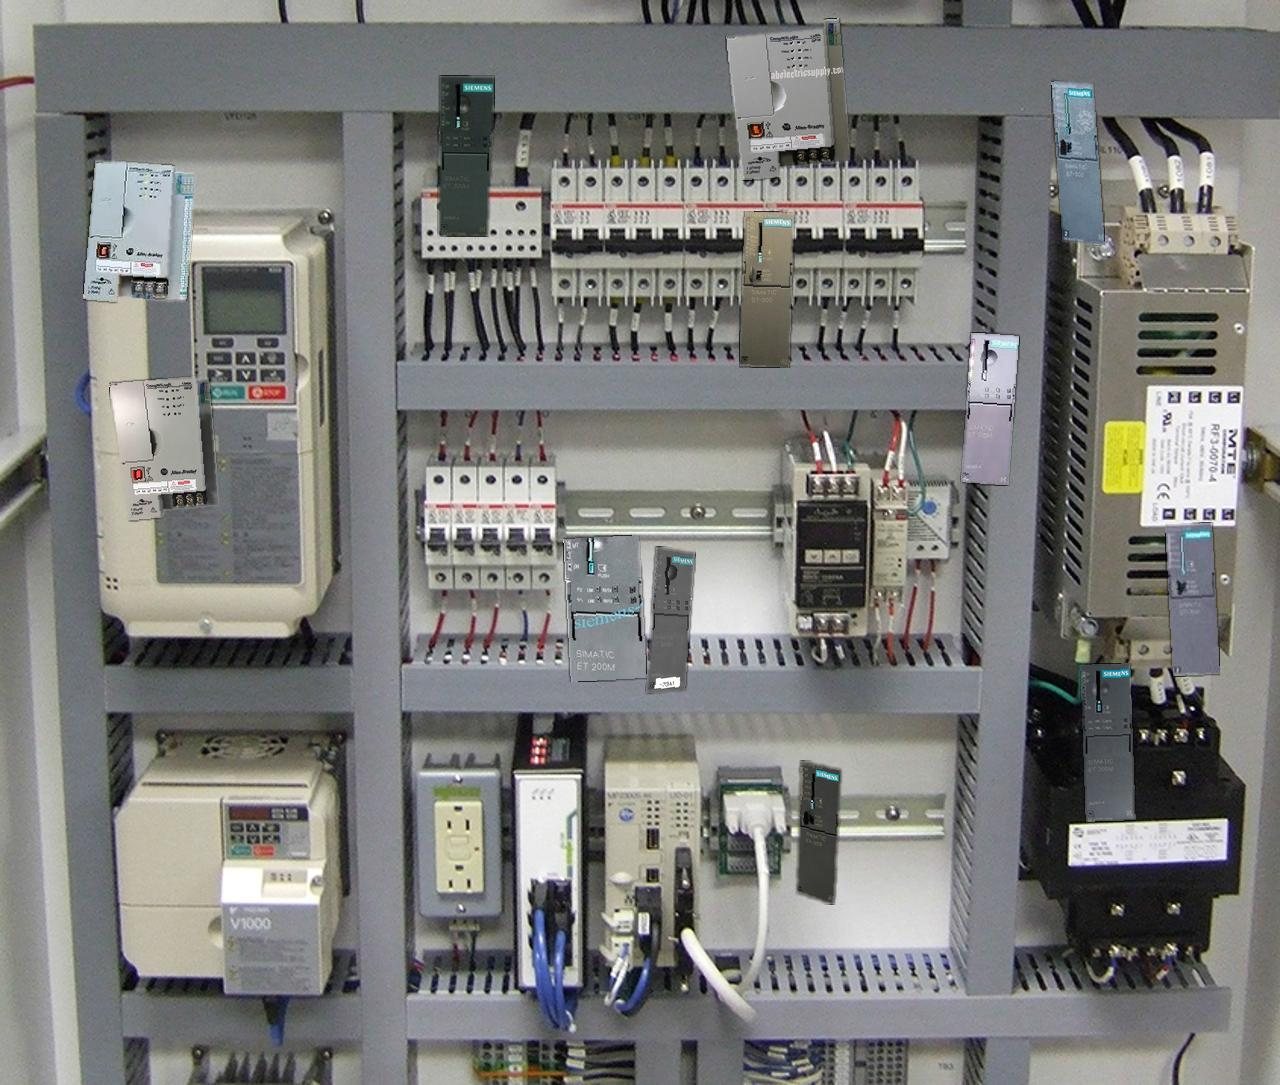AllenBradley: (726, 18, 849, 179), (83, 161, 194, 301), (109, 377, 217, 519)
Siemens: (1051, 81, 1105, 244), (739, 211, 793, 367), (1165, 523, 1219, 675), (797, 761, 840, 903)
